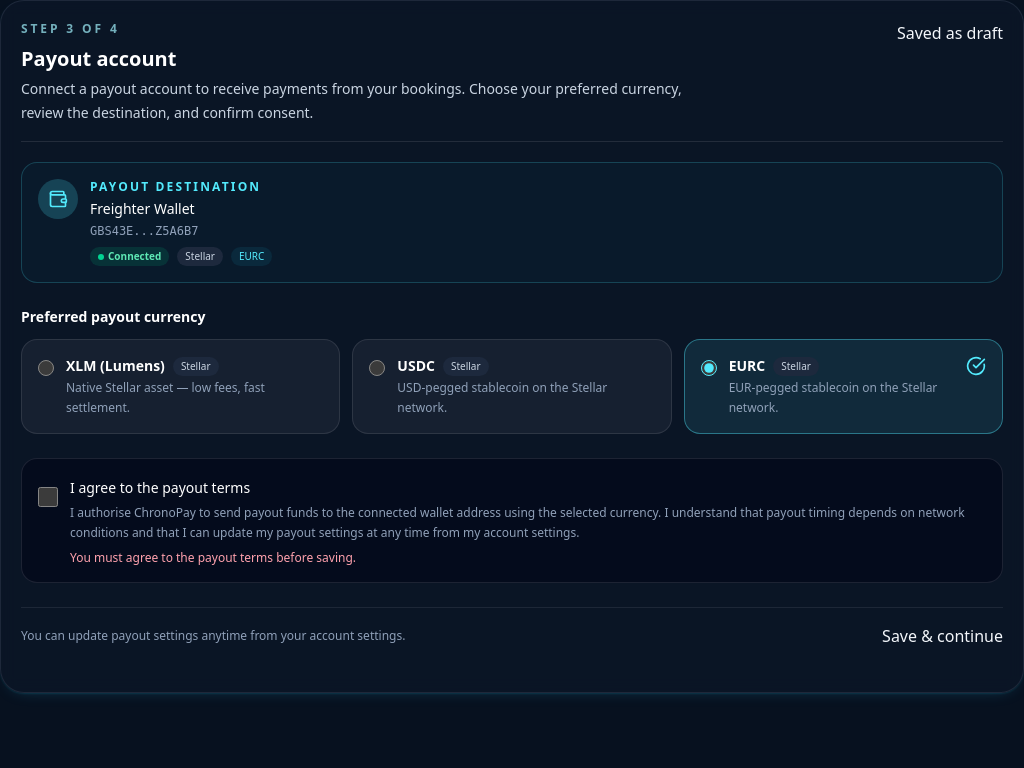
Test case: PayoutCurrency › reflects the selected currency in the payout preview chip
Check: the element named "Payout destination preview" shows "EURC", box [239,249,264,263]
Click the radio button showing "XLM" at (46, 368), box [38,360,54,376]
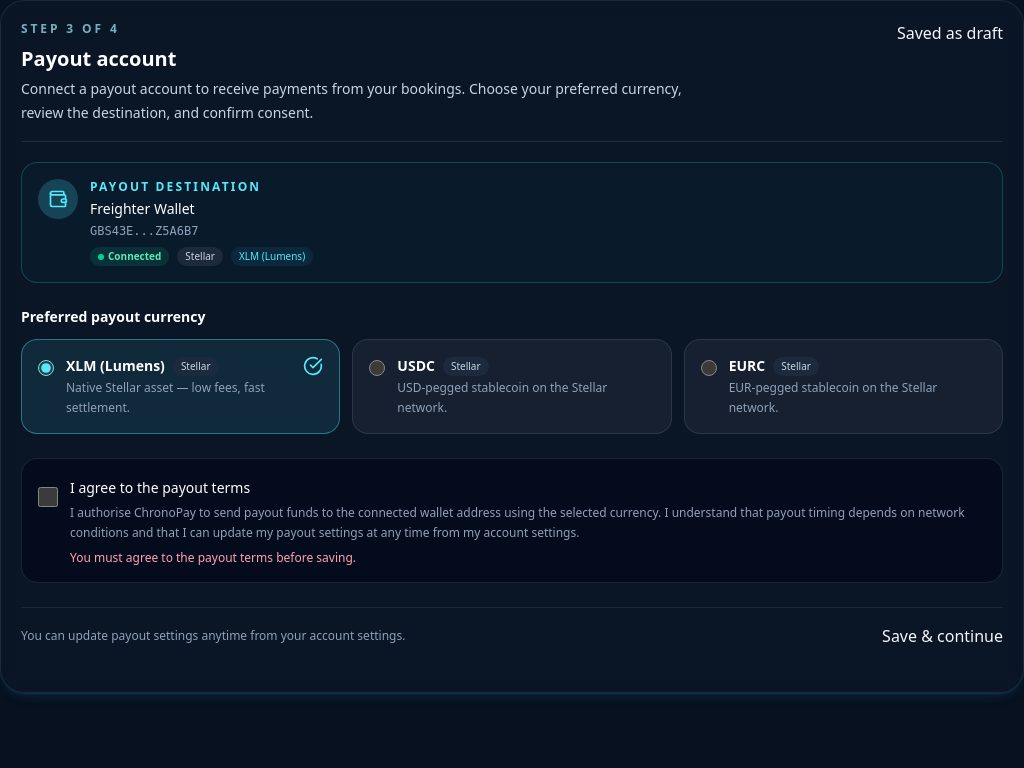
Check: the element named "Payout destination preview" shows "XLM (Lumens)", box [239,249,305,263]
Check: the element named "Payout destination preview" no longer shows "EURC"
